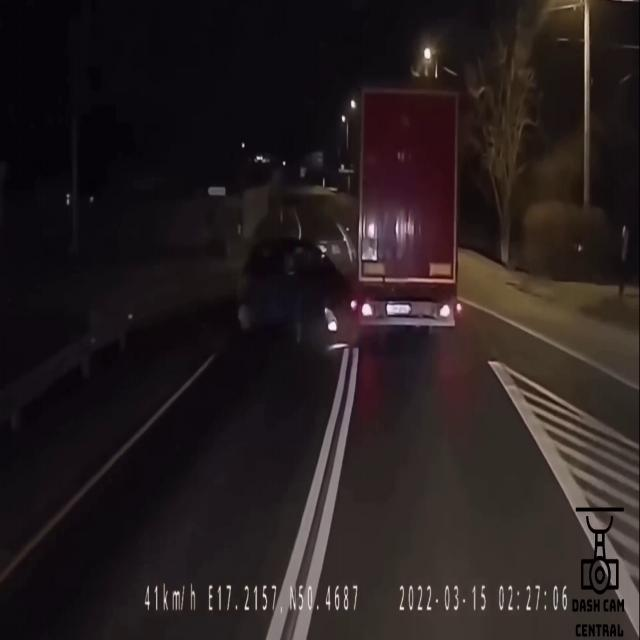accident: (233, 116, 461, 340)
